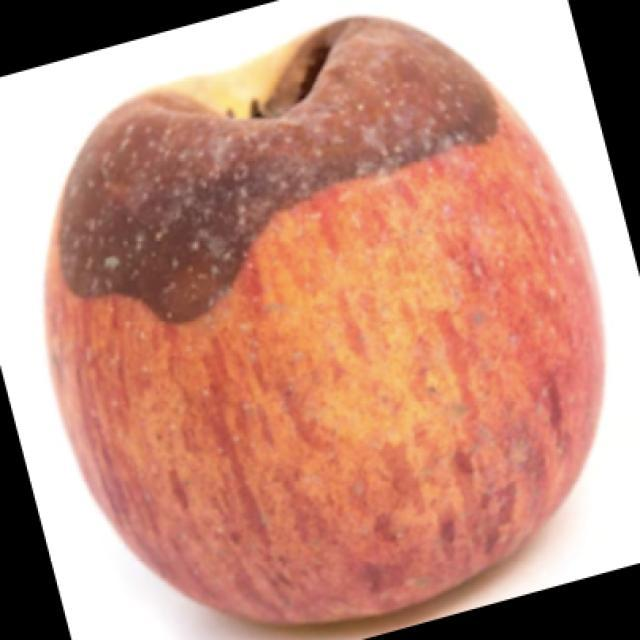apple: (46, 19, 602, 622)
